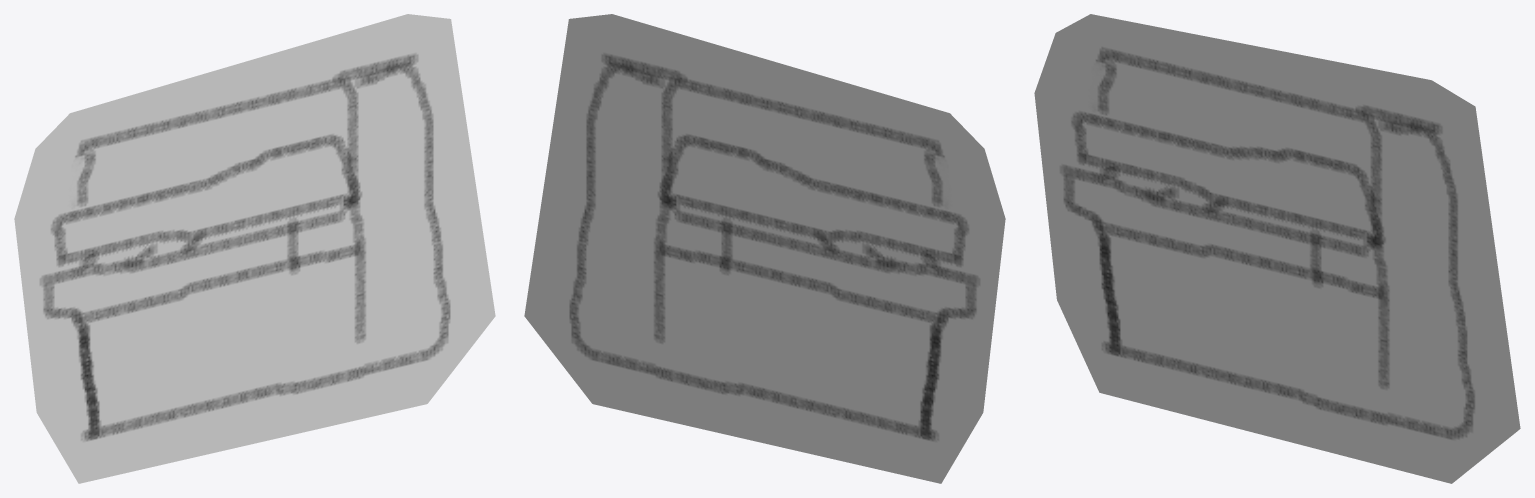
File: Piano.fbx
3 renders of one model, left to right at view 1: azimuth 30°, elevation 25°; view 2: azimuth 150°, elevation 25°; view 3: azimuth 330°, elevation 25°, orthographic.
Parts seen in each view (by area): view 1: Plane.025; view 2: Plane.025; view 3: Plane.025.
Boxes of the visible parts, x1=… form: Plane.025: x1=14, y1=14, x2=495, y2=483; Plane.025: x1=524, y1=14, x2=1005, y2=483; Plane.025: x1=1034, y1=14, x2=1520, y2=483.
Size of the model in its own units: 46.67 by 36.59 by 5.96e-06.
1 material, 1 textured.
